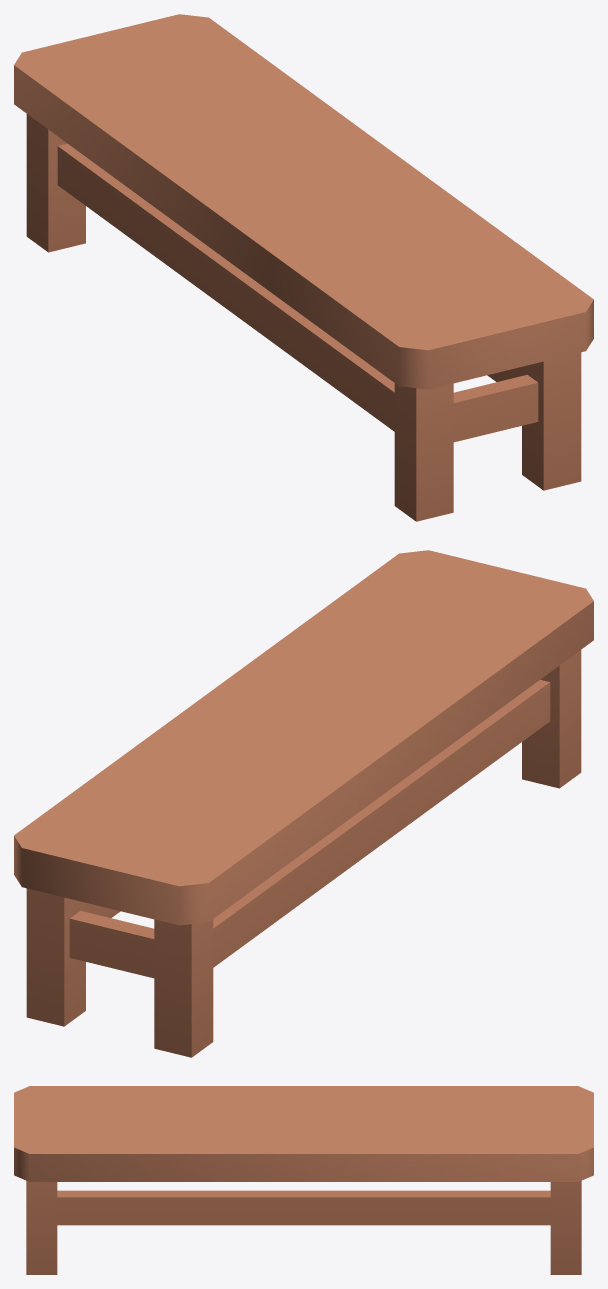
File: stall-bench.obj
3 views of the same model, one above another, from view 1: azimuth 30°, elevation 25°; view 2: azimuth 150°, elevation 25°; view 3: azimuth 270°, elevation 25° (orthographic). The views are drawn at different scales.
Visible parts, largest first — view 1: stall-bench; view 2: stall-bench; view 3: stall-bench.
Boxes of the visible parts, <box> form: stall-bench: <box>14,14,593,521</box>; stall-bench: <box>14,550,593,1057</box>; stall-bench: <box>14,1086,593,1274</box>.
Bounding box in the file's own units: 0.26 × 0.2255 × 0.94.
1 material, 1 textured.
